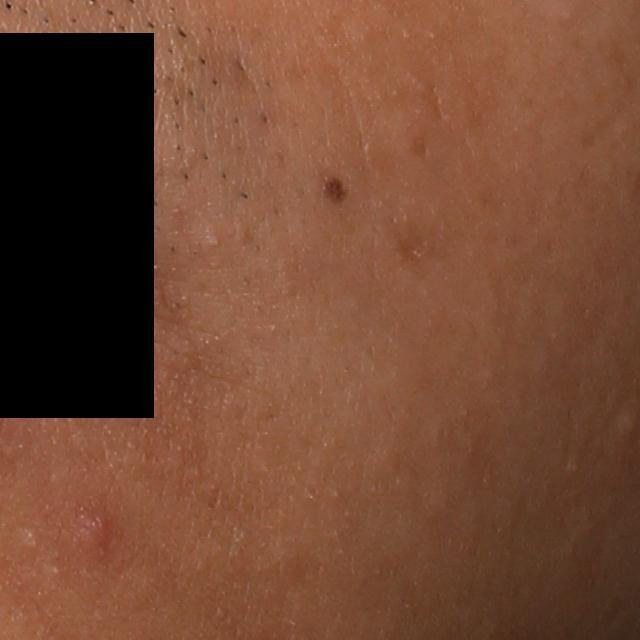comedo: (203, 229, 225, 253)
nevus: (320, 176, 351, 209)
papule: (63, 502, 130, 569)
